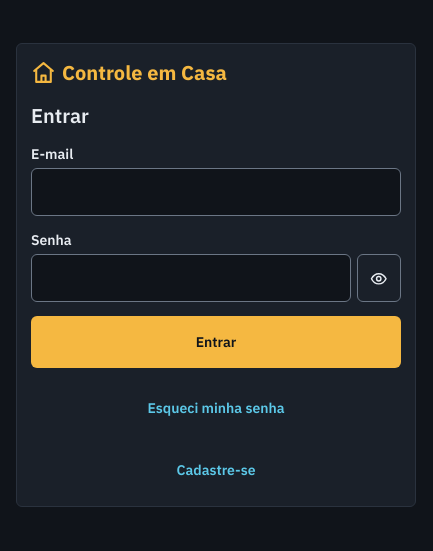
Test: telas de acesso › login errado mostra o alerta genérico e continua em /entrar
The width and height of the screenshot is (433, 551).
Expected: the heading "Entrar" is shown, 31,102 -> 89,129
Type "ana@exemplo.com" into the field labelled "E-mail" at (216, 192), box 31,168 -> 401,216
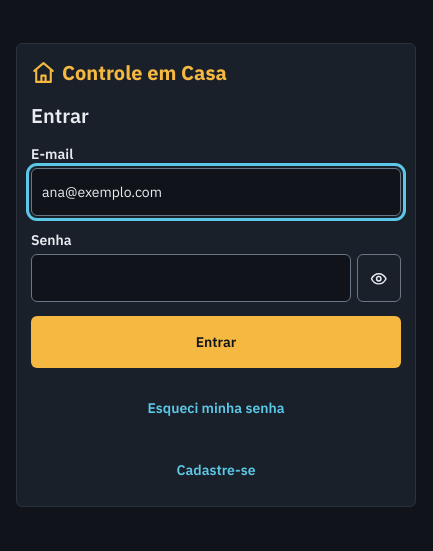
Type "errada" into the password field labelled "Senha" at (191, 278), box 31,254 -> 351,302
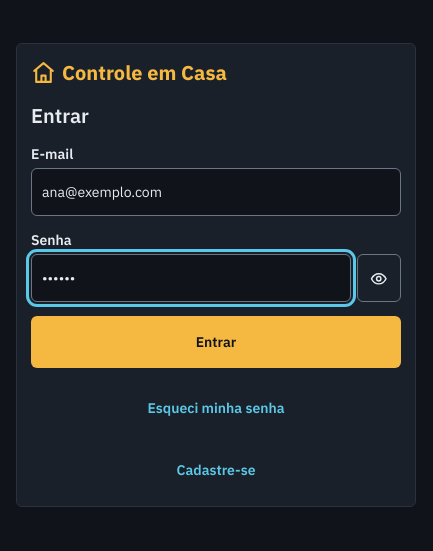
Click the button "Entrar" at (216, 342), box 31,316 -> 401,368
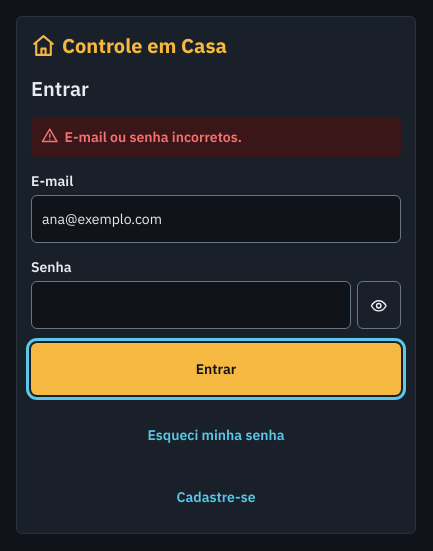
Now the text "E-mail ou senha incorretos." is shown, box 31,116 -> 401,157
